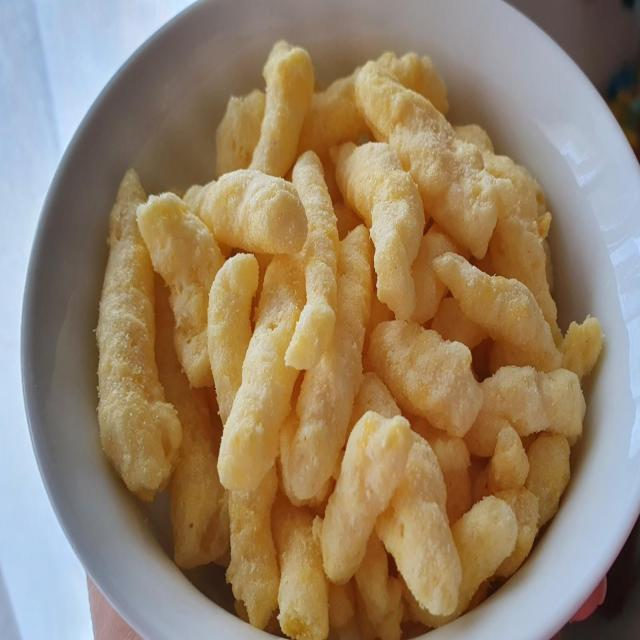Chips packaged: (85, 50, 609, 632)
